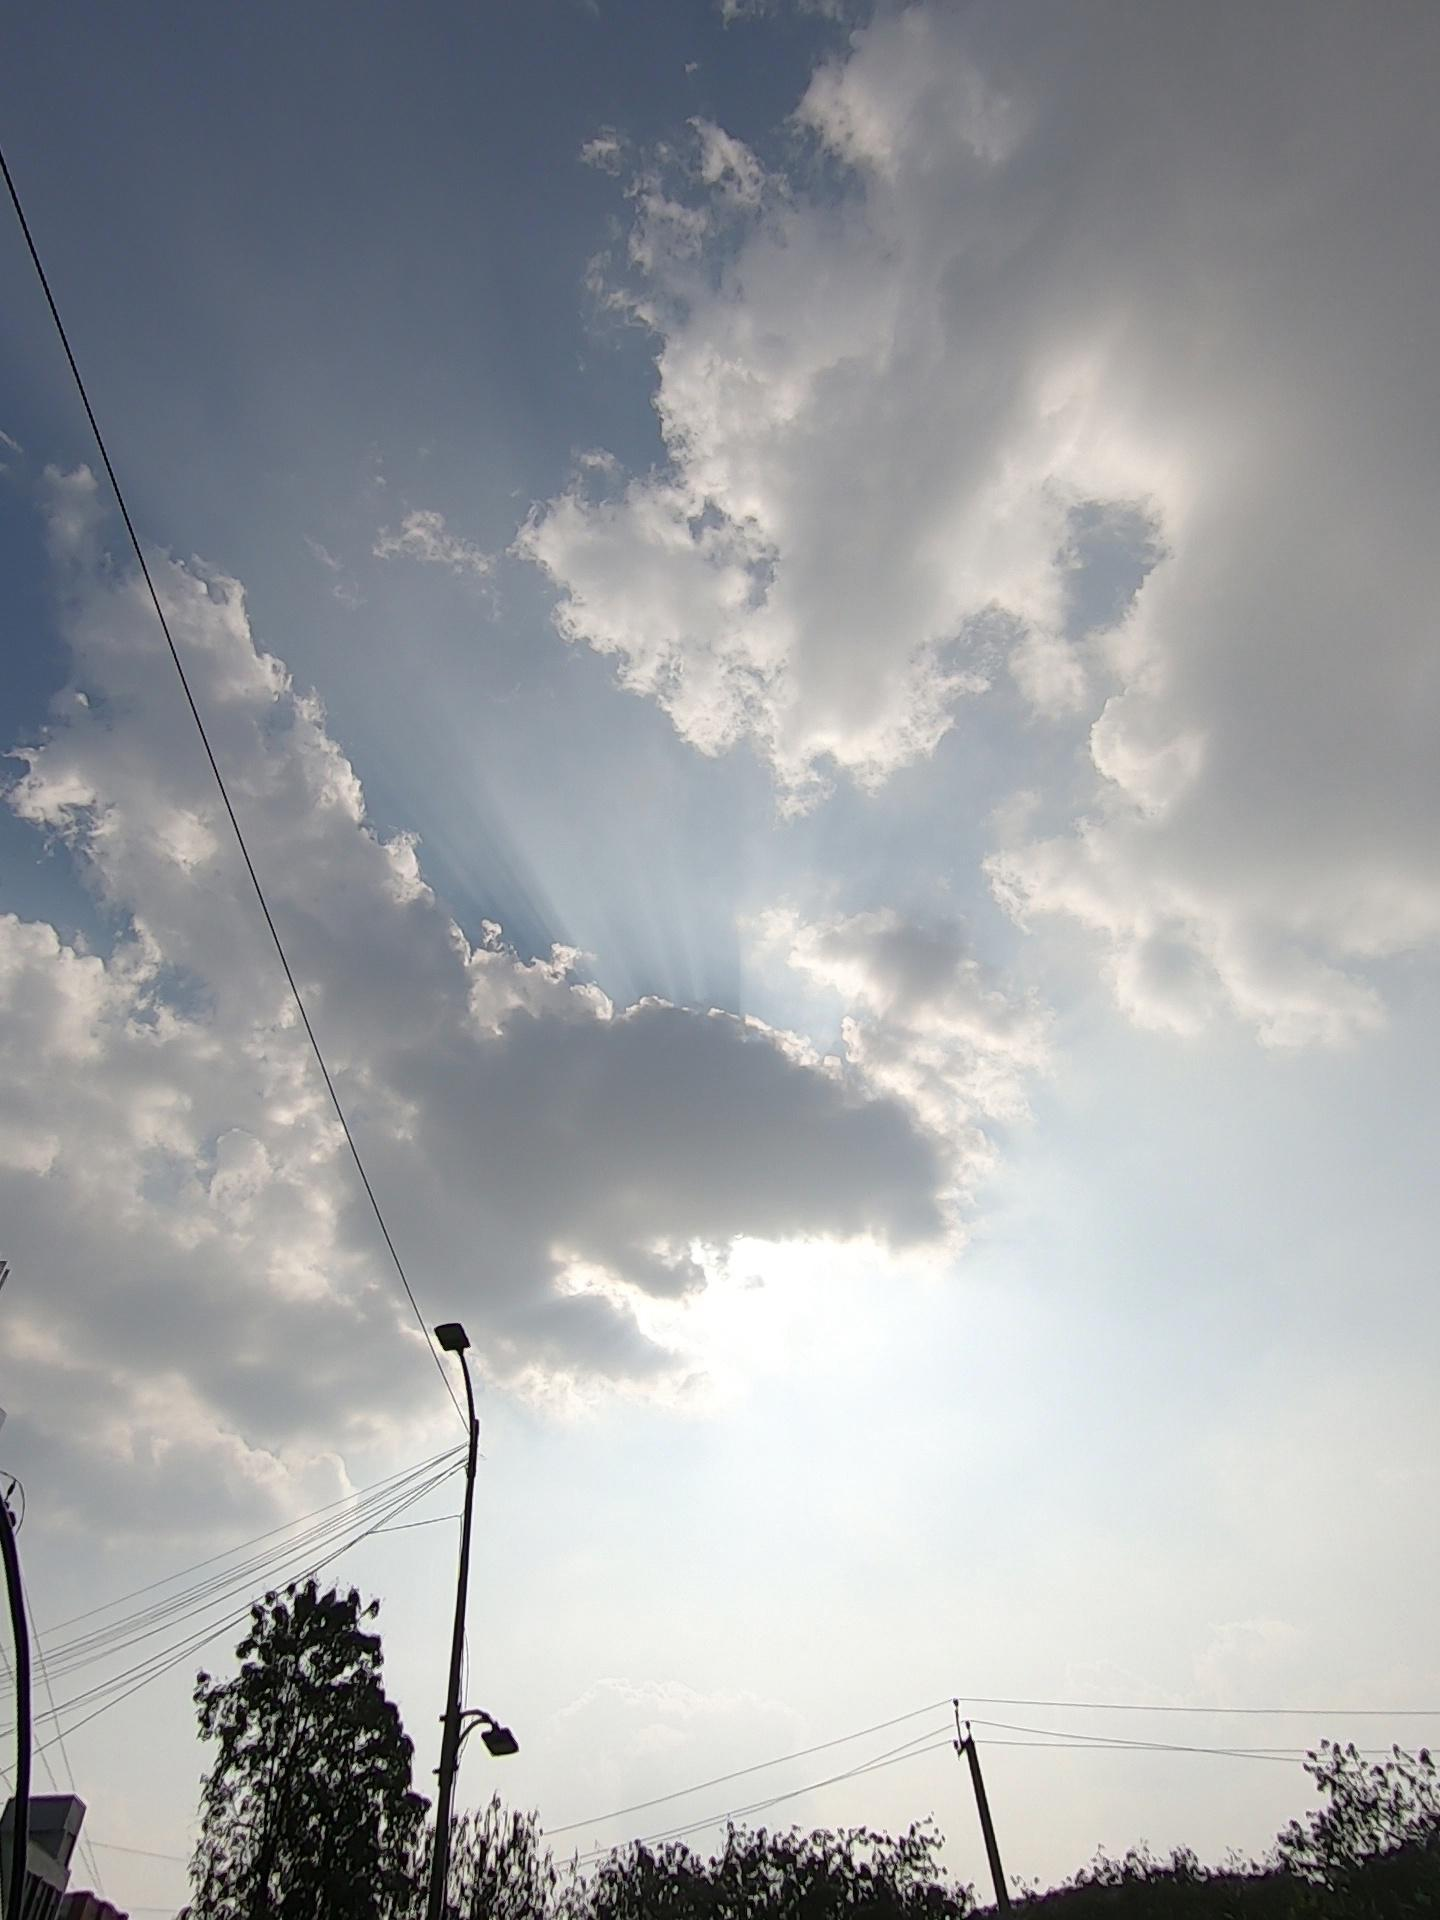off: (390, 1276, 604, 1779)
